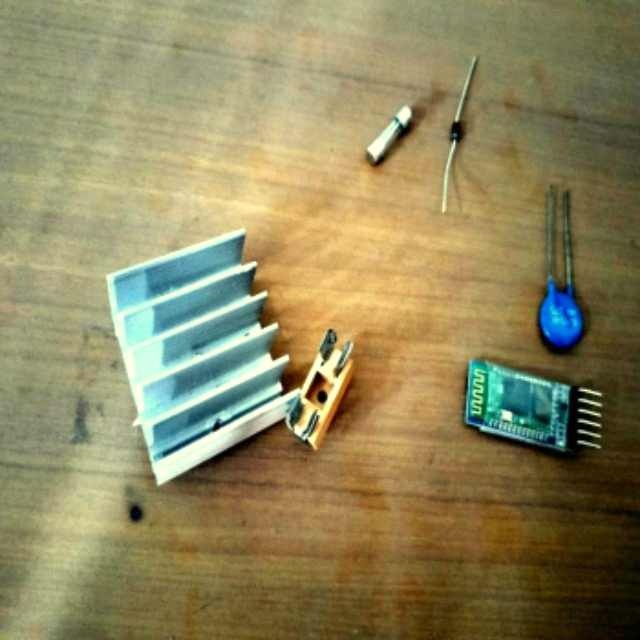capacitor: (541, 291, 580, 345)
